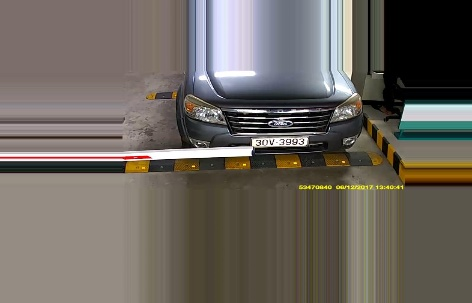plate: (250, 135, 308, 149)
